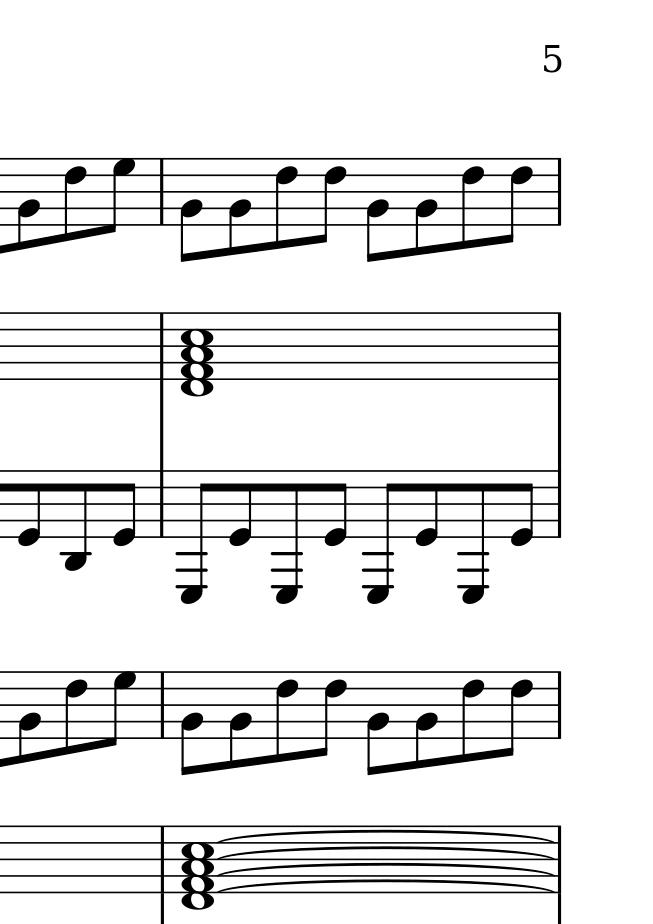1_4th: (178, 311, 214, 400), (180, 824, 215, 912)
5: (542, 40, 563, 74)
8_-3: (62, 469, 91, 572)
8_-7: (361, 468, 404, 605), (177, 469, 213, 607), (271, 468, 304, 606), (459, 468, 488, 607)
8_0: (110, 467, 140, 546), (320, 468, 350, 547), (414, 468, 441, 551), (227, 467, 255, 546), (510, 467, 537, 548), (17, 469, 45, 547)
8_2: (363, 670, 393, 778), (178, 669, 206, 779), (365, 157, 391, 266), (226, 669, 253, 771), (412, 156, 439, 258), (413, 671, 439, 770), (15, 668, 41, 765), (180, 157, 203, 265), (226, 156, 250, 257), (16, 156, 41, 250)
8_6: (312, 670, 351, 761), (499, 155, 536, 245), (315, 158, 351, 244), (502, 669, 534, 759), (272, 156, 299, 251), (460, 155, 486, 252), (272, 670, 298, 765), (460, 671, 485, 765), (61, 156, 86, 244), (64, 671, 89, 757)
8_7: (102, 157, 134, 236), (106, 669, 137, 748)
Single_barline: (552, 824, 569, 898), (154, 156, 171, 227), (154, 471, 170, 541), (156, 822, 171, 894), (155, 672, 171, 739), (551, 309, 565, 382), (552, 157, 566, 230), (552, 671, 567, 739), (552, 469, 566, 539), (153, 314, 168, 373)
Slur: (215, 861, 559, 876), (216, 879, 557, 894), (215, 829, 554, 844), (215, 847, 561, 859)
